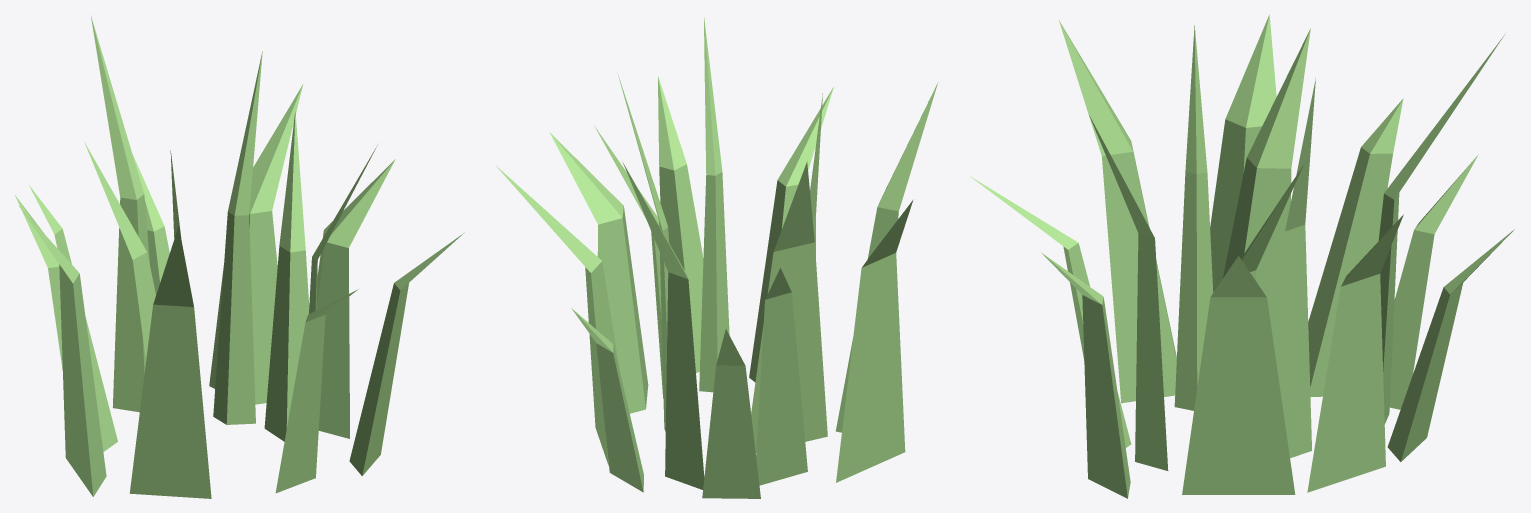
Rendered from bush_01.fbx.
The picture shows the model from 3 angles, left to right: view 1: azimuth 30°, elevation 25°; view 2: azimuth 150°, elevation 25°; view 3: azimuth 270°, elevation 25°; orthographic projection. The views are drawn at different scales.
Visible parts, largest first — view 1: Cone.001; view 2: Cone.001; view 3: Cone.001.
Part boxes in pixels (left/top/right/bottom): Cone.001: left=15, top=15, right=464, bottom=498; Cone.001: left=495, top=17, right=938, bottom=498; Cone.001: left=970, top=14, right=1514, bottom=498.
Bounding box in the file's own units: 402 × 372 × 461.
